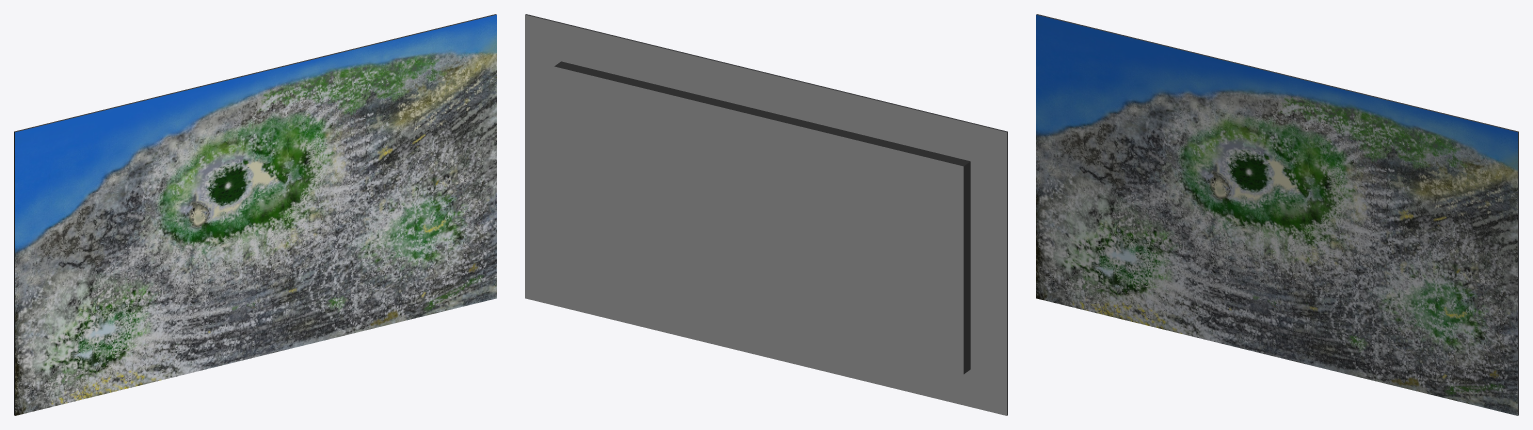
File: hz066_moyen_dibond.glb
3 renders of one model, left to right at view 1: azimuth 30°, elevation 25°; view 2: azimuth 150°, elevation 25°; view 3: azimuth 330°, elevation 25°, orthographic.
Visible parts, largest first — view 1: hz066_moyen_dibond; view 2: hz066_moyen_dibond; view 3: hz066_moyen_dibond.
Boxes of the visible parts, <box> form: hz066_moyen_dibond: <box>14,14,496,415</box>; hz066_moyen_dibond: <box>525,14,1007,415</box>; hz066_moyen_dibond: <box>1036,14,1518,415</box>.
Size of the model in its own units: 0.8 by 0.45 by 0.023.
Materials: 4 (1 with a texture image).
